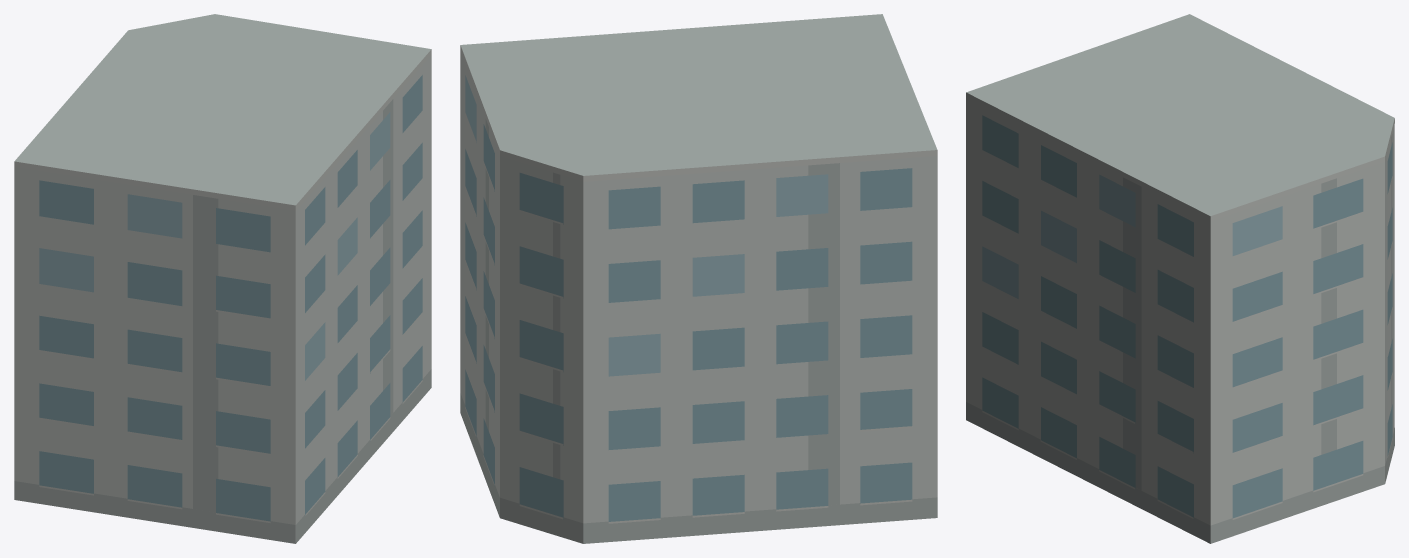
The model's file is survey-upis-32834872.glb.
3 renders of one model, left to right at view 1: azimuth 30°, elevation 25°; view 2: azimuth 150°, elevation 25°; view 3: azimuth 270°, elevation 25°, orthographic. The views are drawn at different scales.
Visible parts, largest first — view 1: survey-upis-32834872.tmp; view 2: survey-upis-32834872.tmp; view 3: survey-upis-32834872.tmp.
Part boxes in pixels (left/top/right/bottom): survey-upis-32834872.tmp: left=14, top=14, right=431, bottom=543; survey-upis-32834872.tmp: left=460, top=14, right=937, bottom=543; survey-upis-32834872.tmp: left=966, top=14, right=1394, bottom=543.
Size of the model in its own units: 19.89 by 15.02 by 17.82.
